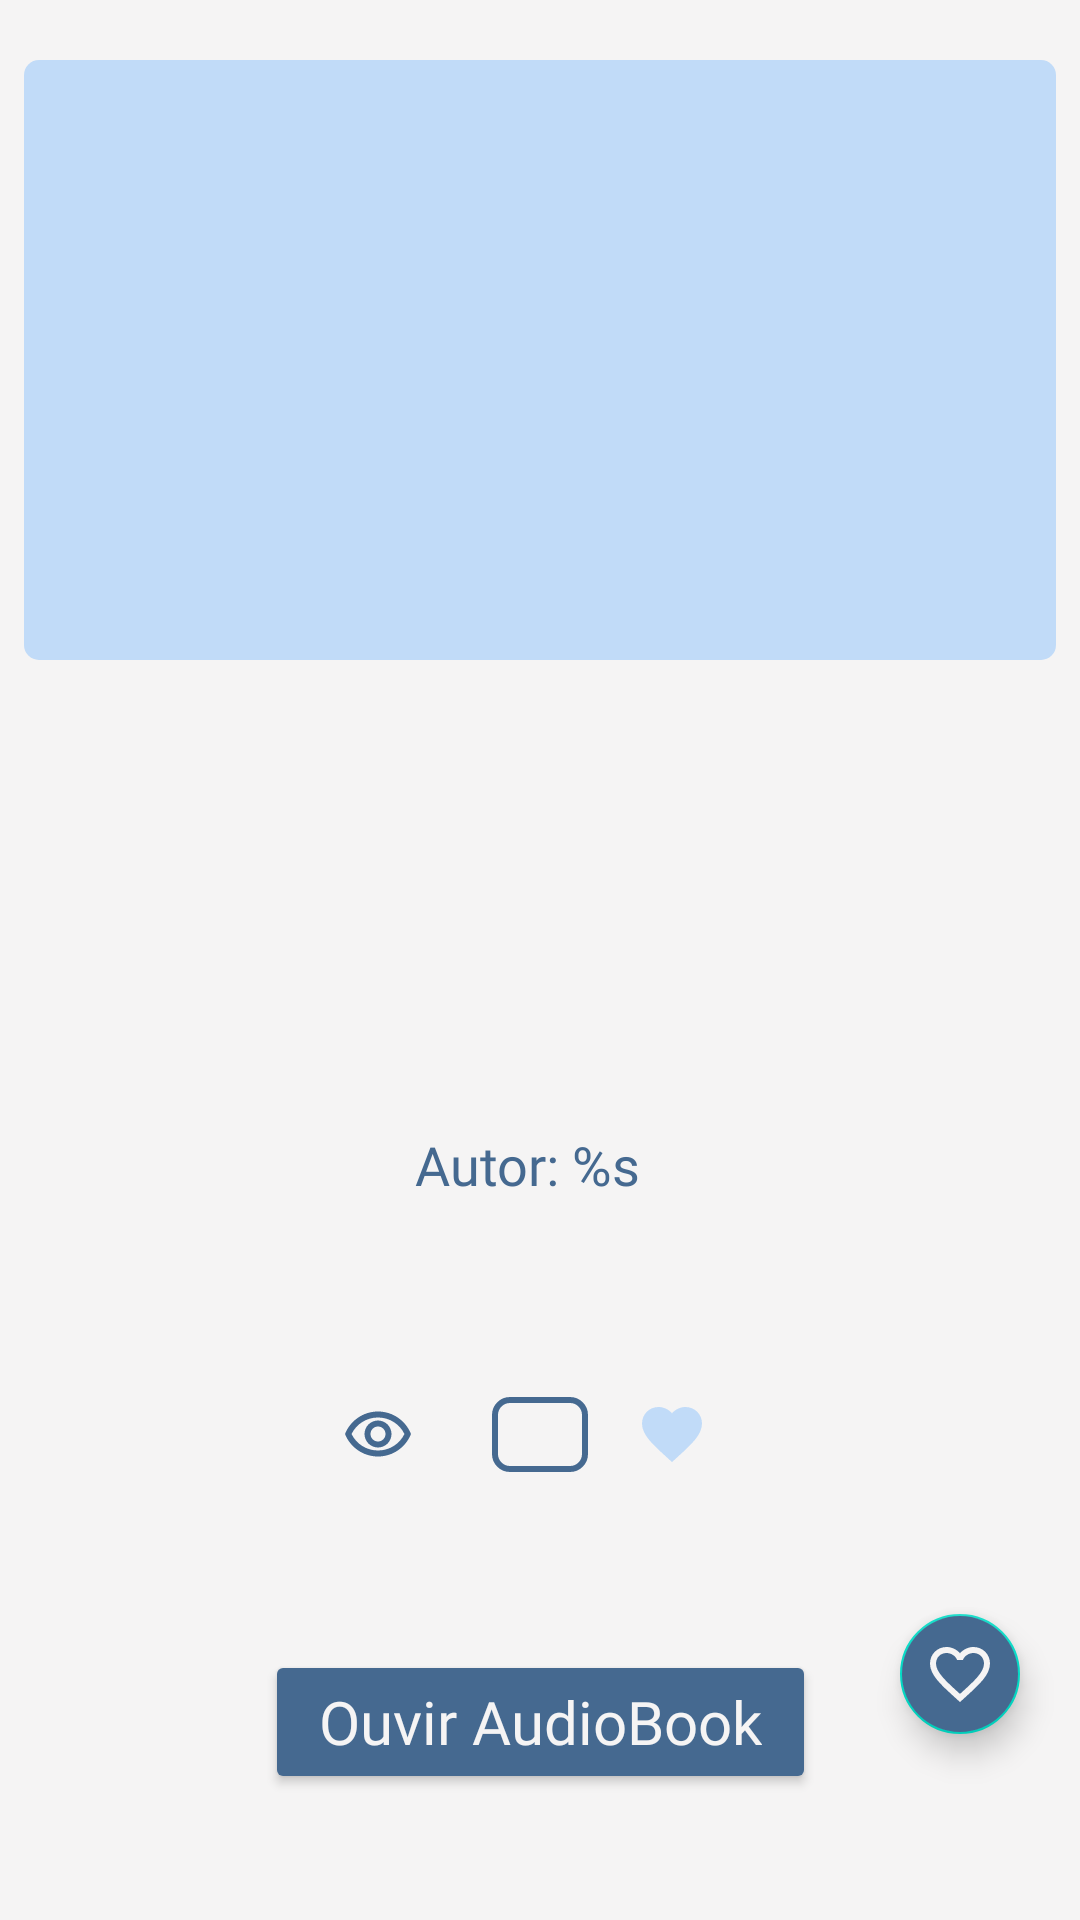

Where icons sit on this 1080px x 1920px app screen, as (x1, y1, x2, y2):
not favorited: (900, 1614, 1023, 1746)
